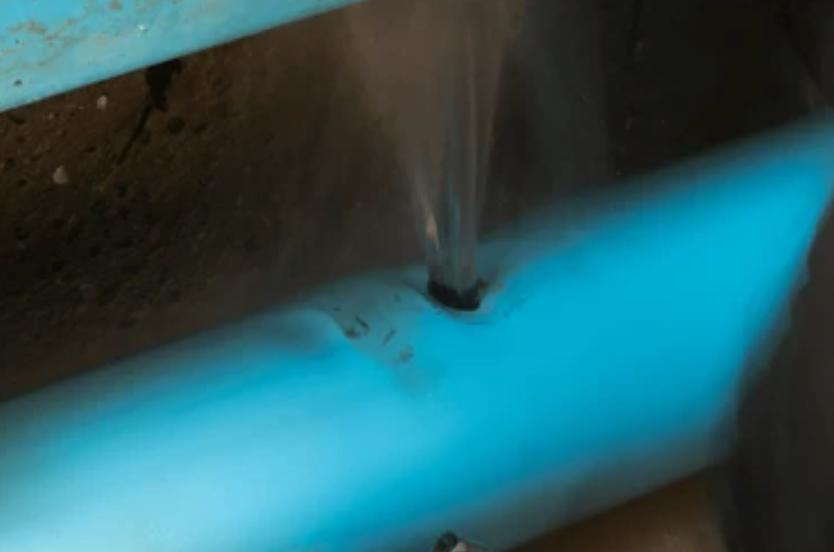pipe burst: (353, 0, 528, 317)
